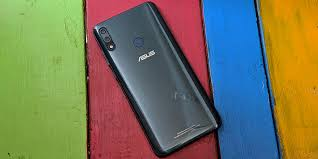asus: (84, 2, 225, 156)
